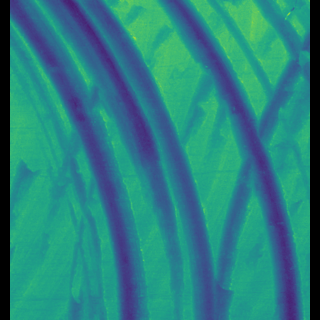Loch: (17, 0, 214, 320), (155, 1, 298, 319), (196, 0, 299, 206)
